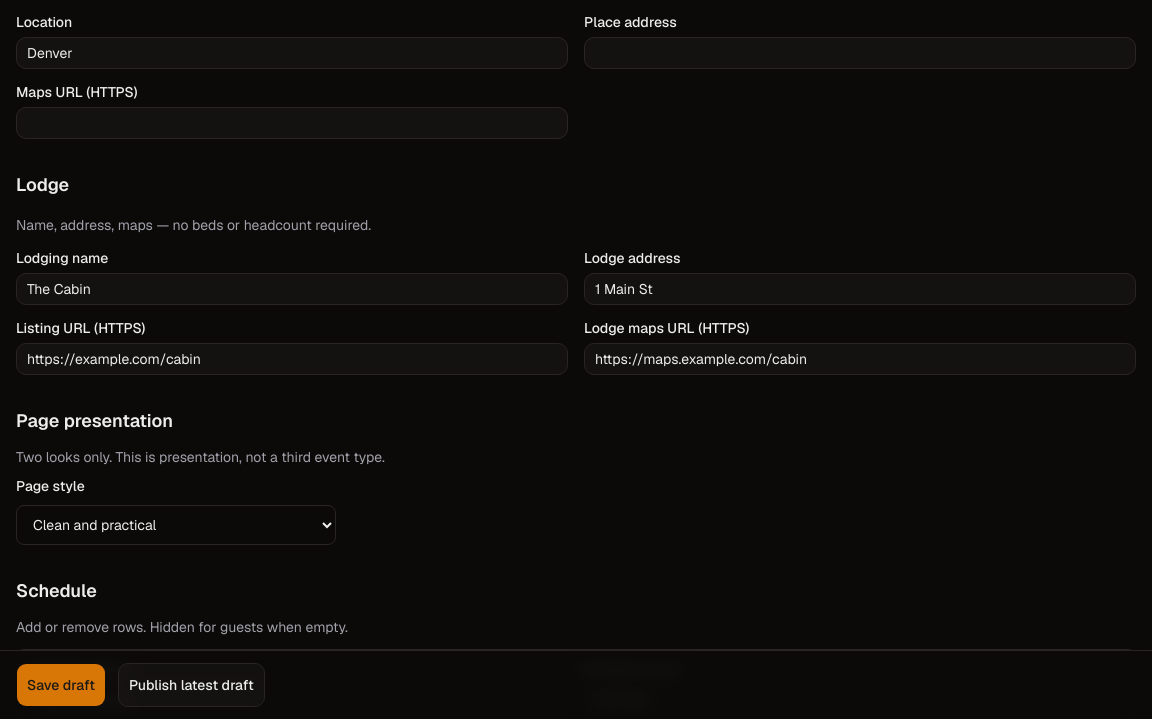
Test case: HostEditor draft review safety › invalidates acknowledgement and saved state when Listing URL (HTTPS) changes
(page scrolled)
Replace the text in the field labelled "Listing URL (HTTPS)" with "https://example.com/new-cabin" at (292, 359), box top-left (16, 343), bottom-right (568, 375)
(page scrolled)
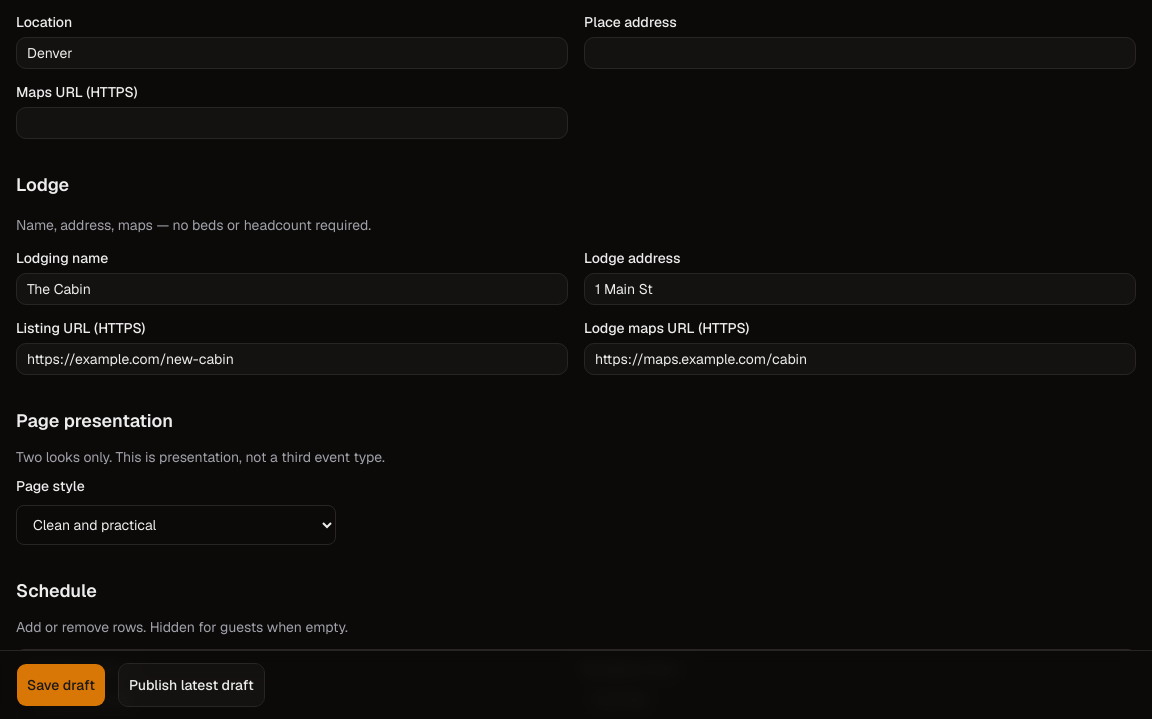
Click the button "Publish latest draft" at (191, 685), box top-left (118, 663), bottom-right (265, 707)
(page scrolled)
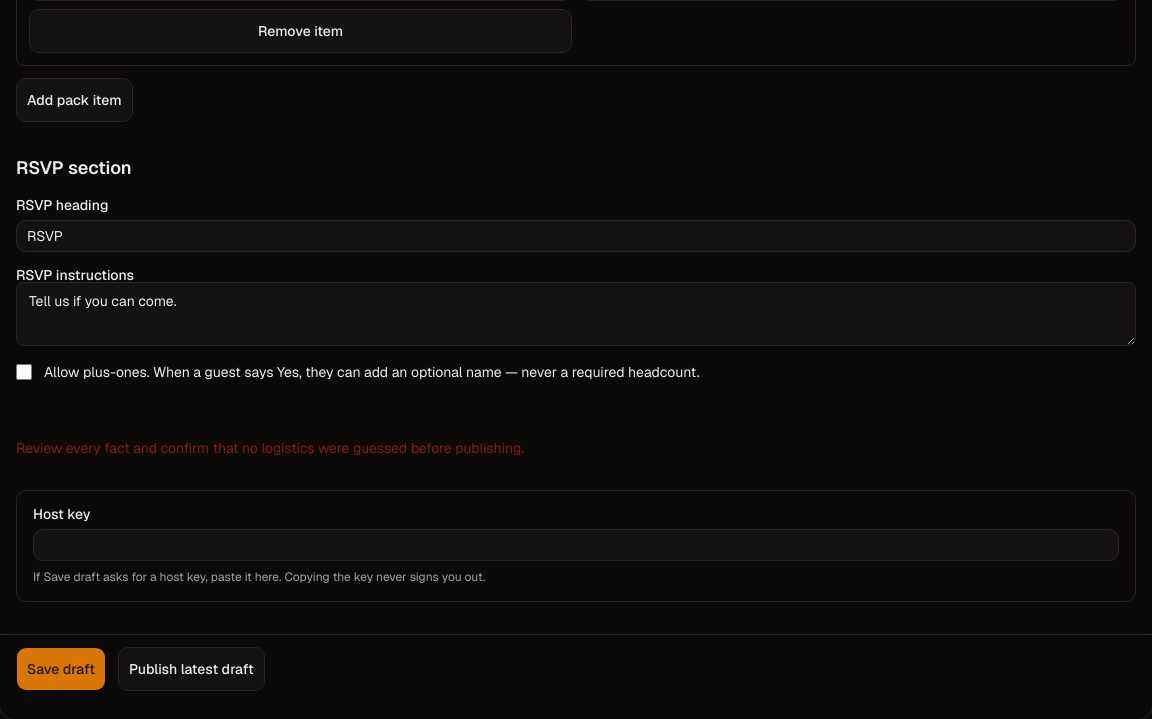
Check: the message shows "Review every fact", box top-left (16, 439), bottom-right (524, 457)
